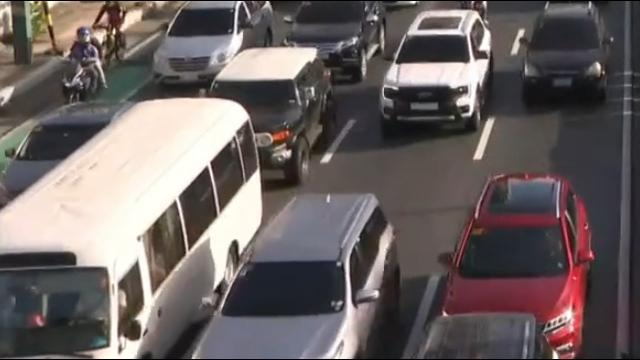car: (190, 191, 397, 360), (437, 174, 595, 360), (208, 45, 332, 188), (377, 9, 494, 135), (152, 1, 275, 90), (518, 2, 615, 107), (281, 0, 389, 84)
motorcycle: (58, 26, 105, 114)
van: (0, 94, 258, 360)
